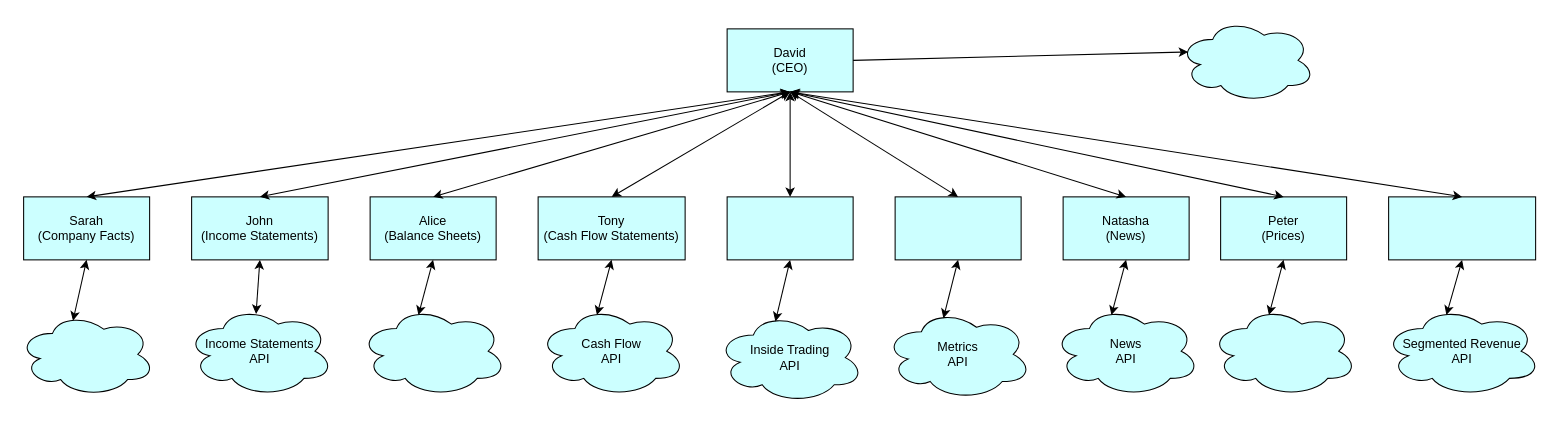
Image size: 1559x422. Some labels were removed from this diagram. The centre of each missing label's shape, as x and y in pixels:
Balance Sheets API: [433,350]
Company Facts API: [86,353]
Melissa (Metrics): [957,228]
Michael (Inside Trading): [789,228]
Order Execution API: [1246,59]
Prices API: [1283,350]
Sara (Segmented Revenue): [1462,228]
